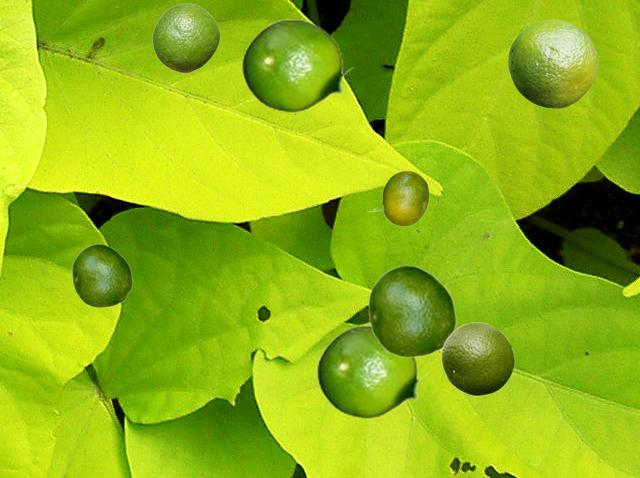calamansi: (316, 325, 429, 418), (241, 19, 354, 112), (367, 264, 456, 357), (508, 19, 597, 107), (441, 321, 514, 395), (152, 3, 219, 72), (71, 243, 132, 307), (366, 170, 428, 225)
